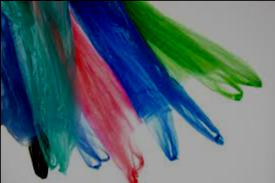Plastic: (67, 1, 225, 162), (68, 1, 162, 182), (121, 1, 262, 101), (1, 1, 79, 172)
